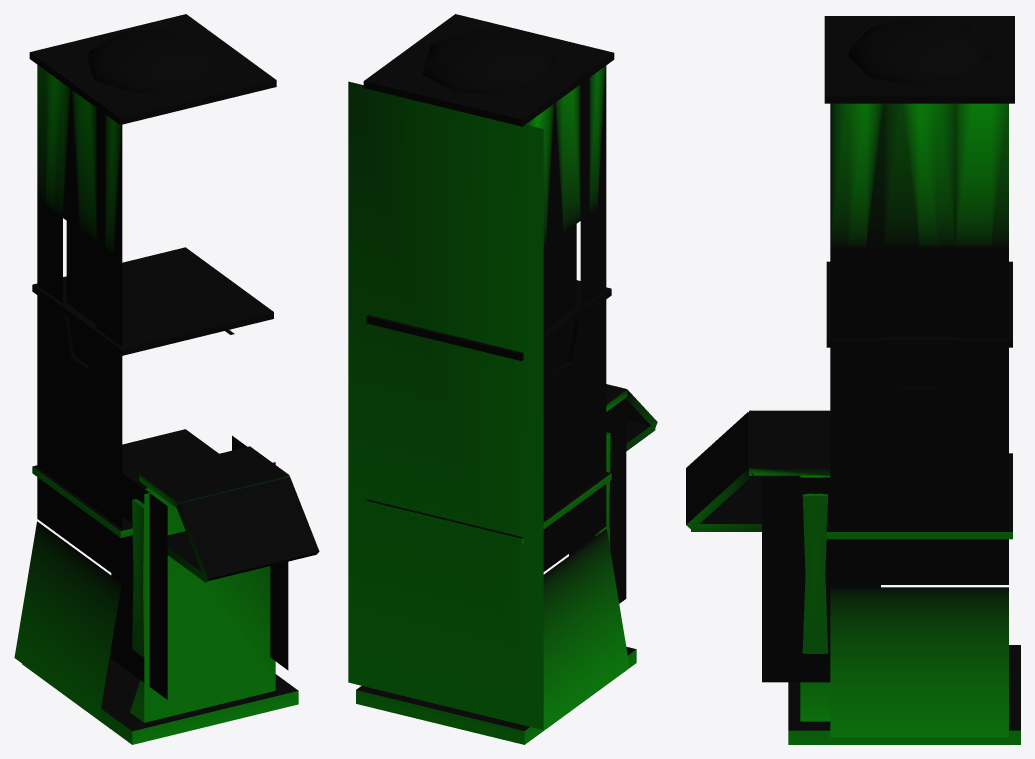
File: l_heavypost.glb
The picture shows the model from 3 angles, left to right: view 1: azimuth 30°, elevation 25°; view 2: azimuth 150°, elevation 25°; view 3: azimuth 270°, elevation 25°; orthographic projection. The views are drawn at different scales.
Parts seen in each view (by area): view 1: lod0; view 2: lod0; view 3: lod0.
Boxes of the visible parts, x1,y1,x2,y2 form: lod0: [14, 14, 319, 744]; lod0: [348, 14, 657, 744]; lod0: [686, 16, 1020, 744].
Size of what is drawn, in the model's own units: 5.91 by 18.66 by 8.44.
